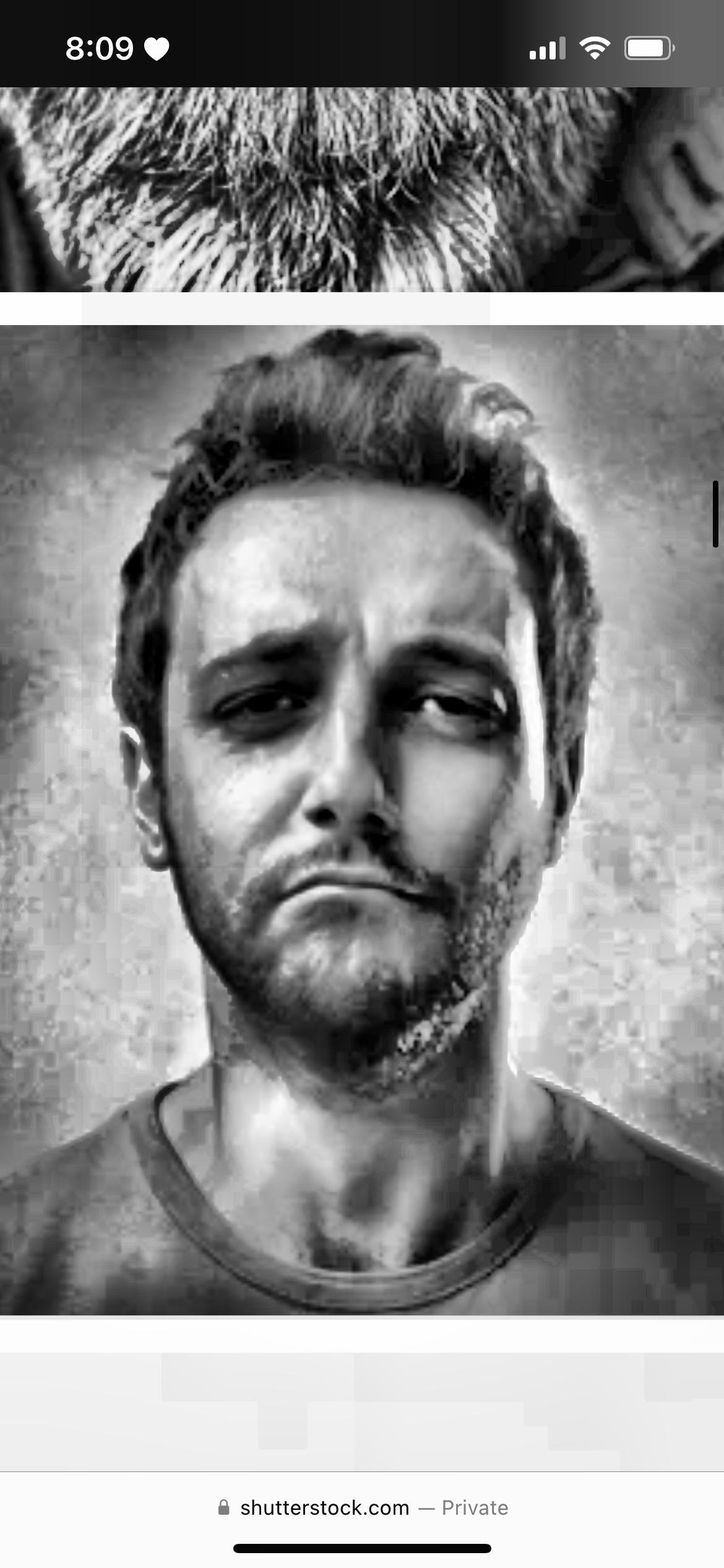sad: (101, 355, 606, 1073)
